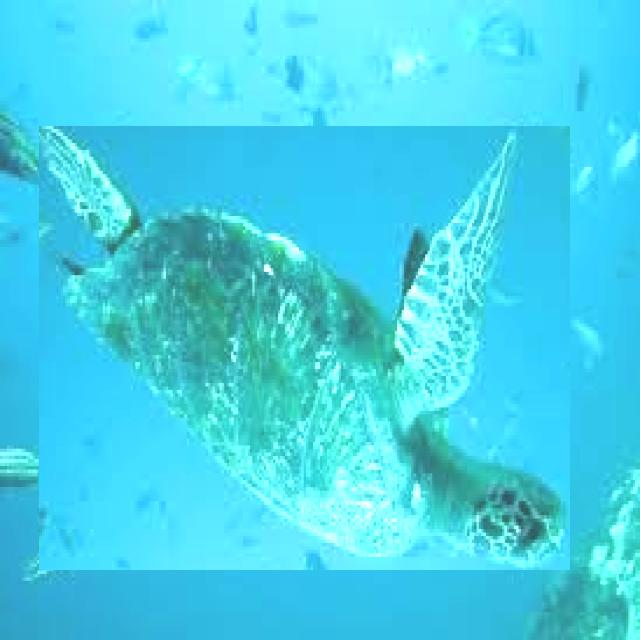Sea turtle: (39, 127, 570, 570)
